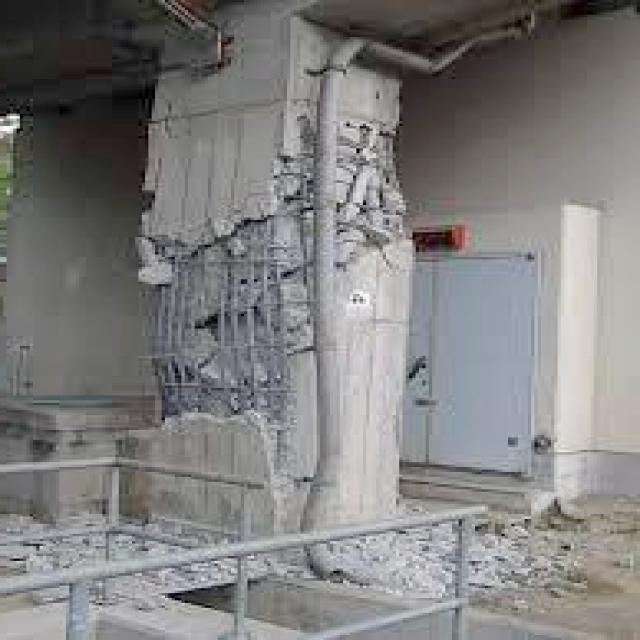Buckling_Beam: (66, 8, 458, 565)
